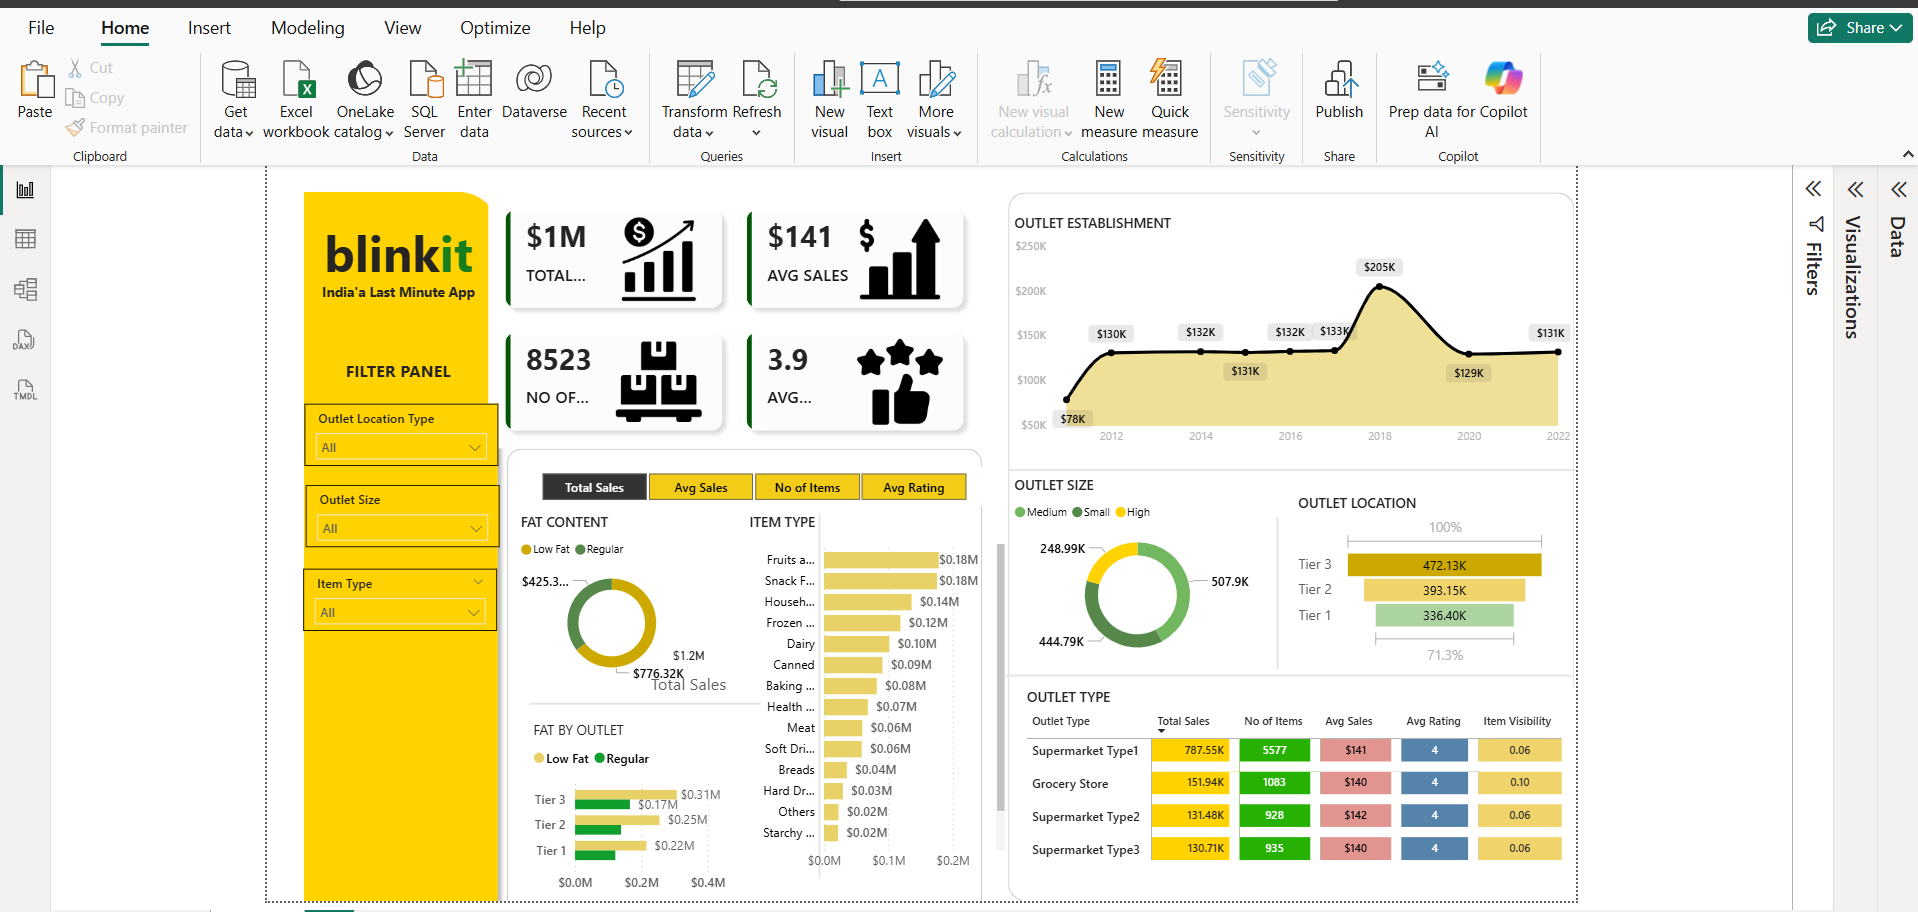

This screenshot's page, from the dashboard's own definition file:
{"tool":"powerbi","page":{"name":"Page 1","canvas":[1280,720],"ordinal":0},"visuals":[{"type":"shape","box":[26.9,17.1,207.9,749.6],"z":0},{"type":"textbox","box":[278.8,674.3,203.8,92.5],"z":1000},{"type":"textbox","box":[41.6,48.3,174.3,77.7],"z":2000},{"type":"textbox","box":[41.6,109.9,174.3,32.2],"z":3000},{"type":"cardVisual","fields":{"Data":["BlinkIT Grocery Data.Total Sales","BlinkIT Grocery Data.Avg Sales","BlinkIT Grocery Data.No of Items","BlinkIT Grocery Data.Avg Rating"]},"box":[216.4,26.9,483,250.7],"z":4000},{"type":"shape","box":[234.8,277.6,464.7,500.1],"z":5000},{"type":"donutChart","title":"FAT CONTENT","fields":{"Y":["BlinkIT Grocery Data.Total Sales"],"Category":["BlinkIT Grocery Data.Item Fat Content"]},"box":[243.3,339.9,188.3,171.2],"z":6000},{"type":"slicer","fields":{"Values":["Metrics.Metrics"]},"box":[243.3,294.7,464.7,39.1],"z":7000},{"type":"card","fields":{"Values":["BlinkIT Grocery Data.Total Sales"]},"box":[370.5,458.6,84.4,68.5],"z":8000},{"type":"clusteredBarChart","title":"FAT BY OUTLET","fields":{"Y":["BlinkIT Grocery Data.Total Sales"],"Category":["BlinkIT Grocery Data.Outlet Location Type"],"Series":["BlinkIT Grocery Data.Item Fat Content"]},"box":[255.6,542.9,211.6,177.3],"z":9000},{"type":"shape","box":[256.8,511.1,226.2,31.8],"z":10000},{"type":"shape","box":[431.7,341.2,217.7,357.1],"z":11000},{"type":"barChart","title":"ITEM TYPE","fields":{"Y":["BlinkIT Grocery Data.Total Sales"],"Category":["BlinkIT Grocery Data.Item Type"]},"box":[467.1,339.9,259.2,359.5],"z":12000},{"type":"shape","box":[725.1,26.9,553.9,693.3],"z":13000},{"type":"lineChart","title":"OUTLET ESTABLISHMENT","fields":{"Category":["BlinkIT Grocery Data.Outlet Establishment Year"],"Y":["BlinkIT Grocery Data.Total Sales"]},"box":[726.4,47.7,553.9,234.8],"z":14000},{"type":"shape","box":[722.7,487.9,553.9,23.2],"z":15000},{"type":"donutChart","title":"OUTLET SIZE","fields":{"Y":["Sum(BlinkIT Grocery Data.Sales)"],"Category":["BlinkIT Grocery Data.Outlet Size"]},"box":[726.4,303.3,250.7,189.5],"z":16000},{"type":"shape","box":[875.5,344.8,226.2,148],"z":17000},{"type":"funnel","title":"OUTLET LOCATION","fields":{"Y":["Sum(BlinkIT Grocery Data.Sales)"],"Category":["BlinkIT Grocery Data.Outlet Location Type"]},"box":[1003.9,321.6,253.1,171.2],"z":18000},{"type":"shape","box":[726.1,282.5,553.9,31.8],"z":19000},{"type":"pivotTable","title":"OUTLET TYPE","fields":{"Rows":["BlinkIT Grocery Data.Outlet Type"],"Values":["Sum(BlinkIT Grocery Data.Sales)","BlinkIT Grocery Data.No of Items","BlinkIT Grocery Data.Avg Sales","BlinkIT Grocery Data.Avg Rating","Avg(BlinkIT Grocery Data.Item Visibility)"]},"box":[738.6,511.1,541.7,209.1],"z":20000},{"type":"slicer","fields":{"Values":["BlinkIT Grocery Data.Outlet Location Type"]},"box":[36.7,233.6,189.5,61.1],"z":21000},{"type":"slicer","fields":{"Values":["BlinkIT Grocery Data.Outlet Size"]},"box":[37.9,313,189.5,61.1],"z":22000},{"type":"slicer","fields":{"Values":["BlinkIT Grocery Data.Item Type"]},"box":[35.5,395,189.5,61.1],"z":23000},{"type":"textbox","box":[66,184.6,124.7,36.7],"z":24000}]}

Visuals, with their boxes on the page's 1280x720 design canvas (x1, y1, x2, y2). These are canvas units, not pixel positions in the 1918x912 screenshot, which may show the page scaled, cropped or inside an application window:
shape: 27,17,235,767
textbox: 279,674,483,767
textbox: 42,48,216,126
textbox: 42,110,216,142
cardVisual - BlinkIT Grocery Data.Total Sales x BlinkIT Grocery Data.Avg Sales: 216,27,699,278
shape: 235,278,700,778
"FAT CONTENT" donutChart: 243,340,432,511
slicer - Metrics.Metrics: 243,295,708,334
card - BlinkIT Grocery Data.Total Sales: 370,459,455,527
"FAT BY OUTLET" clusteredBarChart: 256,543,467,720
shape: 257,511,483,543
shape: 432,341,649,698
"ITEM TYPE" barChart: 467,340,726,699
shape: 725,27,1279,720
"OUTLET ESTABLISHMENT" lineChart: 726,48,1280,282
shape: 723,488,1277,511
"OUTLET SIZE" donutChart: 726,303,977,493
shape: 876,345,1102,493
"OUTLET LOCATION" funnel: 1004,322,1257,493
shape: 726,282,1280,314
"OUTLET TYPE" pivotTable: 739,511,1280,720
slicer - BlinkIT Grocery Data.Outlet Location Type: 37,234,226,295
slicer - BlinkIT Grocery Data.Outlet Size: 38,313,227,374
slicer - BlinkIT Grocery Data.Item Type: 36,395,225,456
textbox: 66,185,191,221
